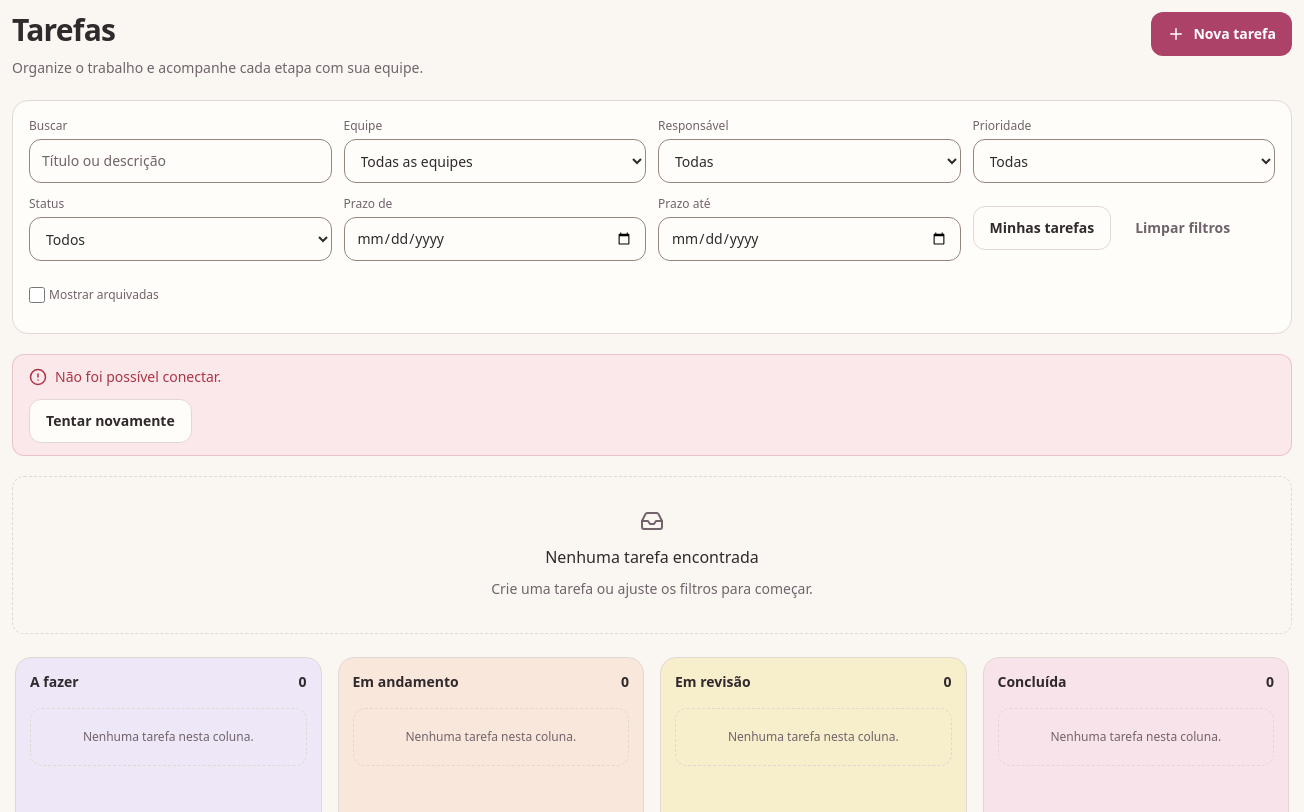
Scenario: mostra erro de conexão e permite tentar novamente
Expected: the message "Não foi possível conectar. Tentar novamente" is shown, [12,354,1292,456]
Click the button "Tentar novamente".
click(110, 421)  # box [29,399,192,443]
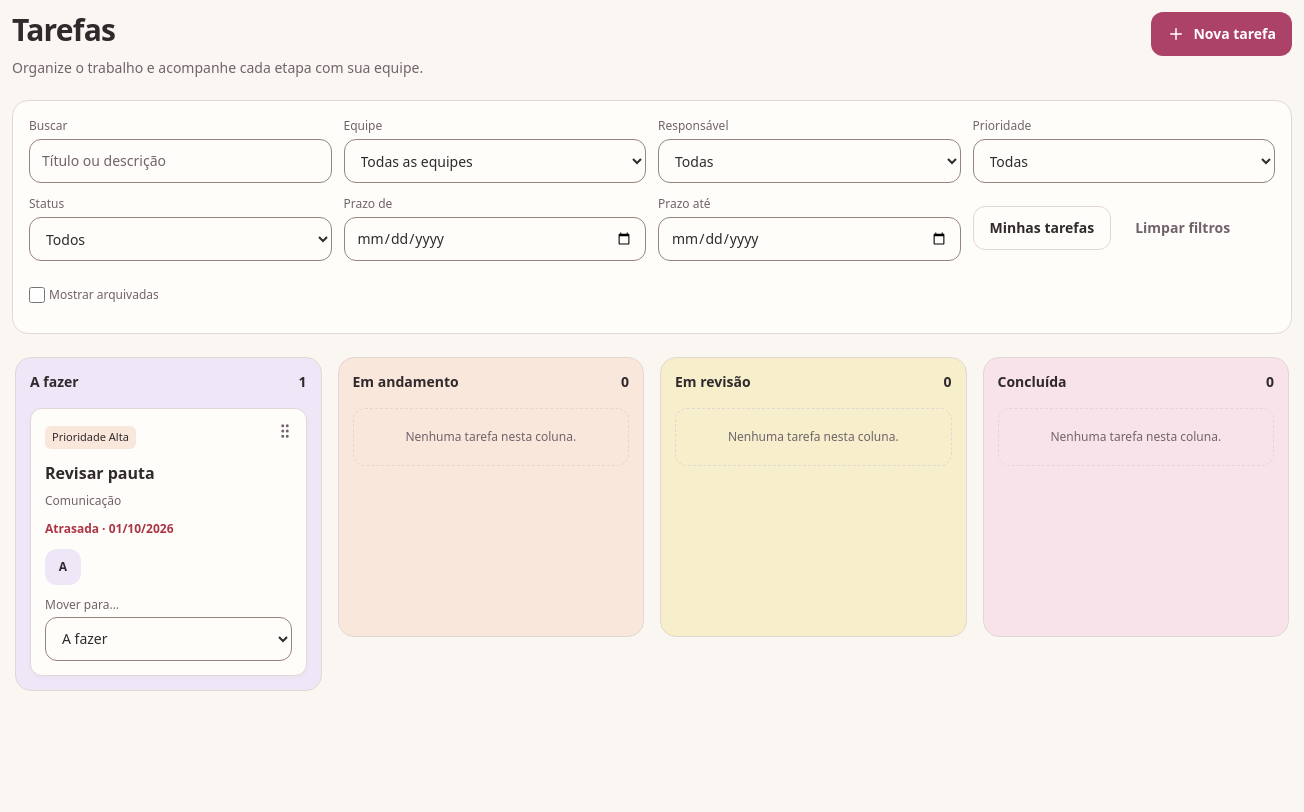
Expected: the heading "Revisar pauta" is shown, [45,462,155,484]
